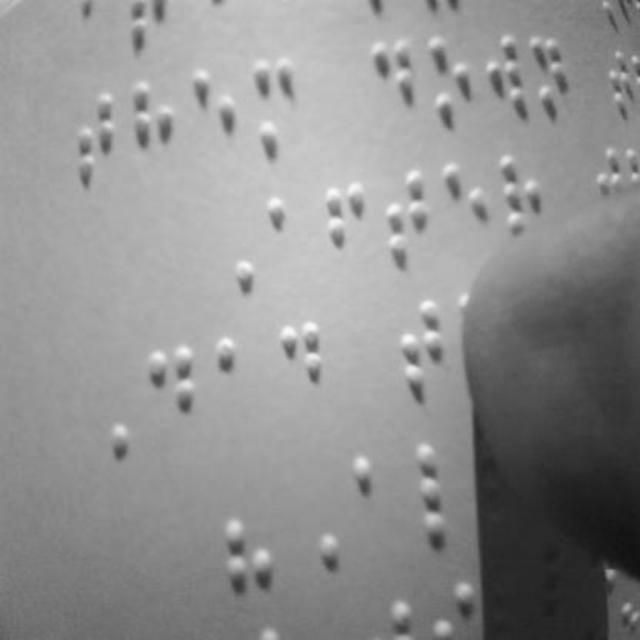braiile: (414, 442, 488, 548), (347, 447, 411, 557), (383, 166, 439, 280), (274, 321, 332, 431), (395, 298, 455, 404), (146, 343, 204, 452), (440, 162, 494, 270), (215, 334, 268, 438), (248, 55, 300, 161), (190, 63, 240, 173), (321, 179, 371, 289), (426, 34, 478, 136), (368, 33, 418, 139), (480, 25, 530, 131), (128, 78, 178, 180), (70, 86, 118, 192), (265, 187, 315, 285), (527, 32, 571, 126)
